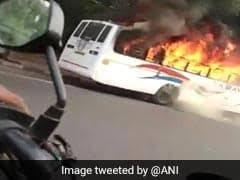fire: (150, 30, 239, 79)
